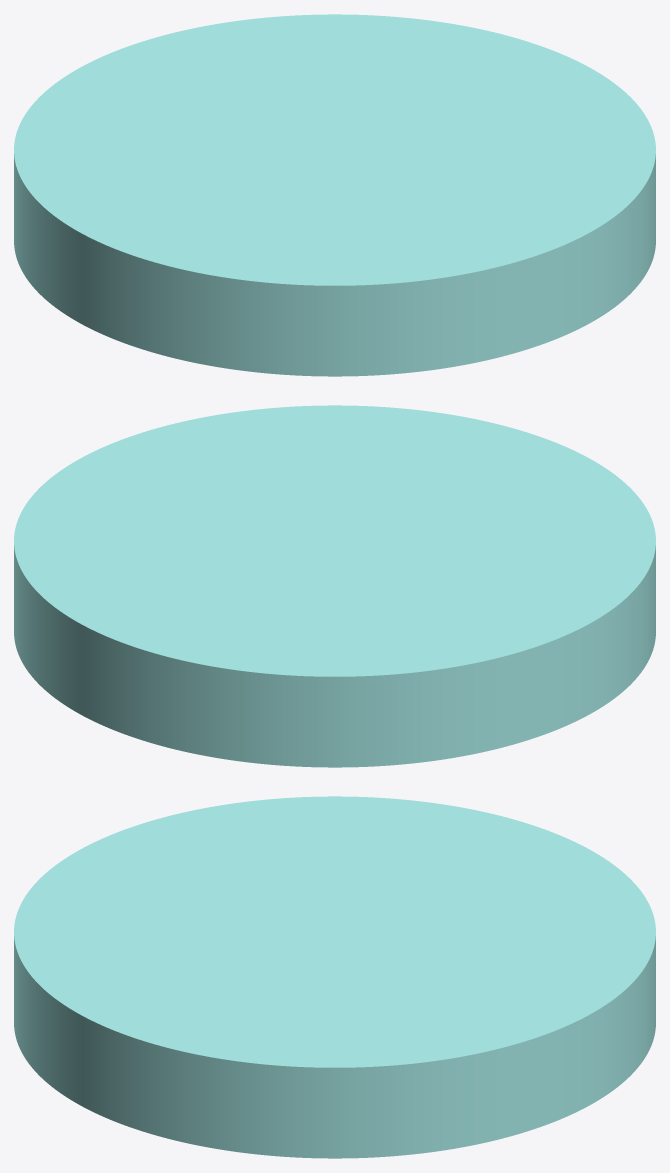
File: mobileplatform1.fbx
3 renders of one model, top to bottom at view 1: azimuth 30°, elevation 25°; view 2: azimuth 150°, elevation 25°; view 3: azimuth 270°, elevation 25°, orthographic.
Parts seen in each view (by area): view 1: Cylinder.007; view 2: Cylinder.007; view 3: Cylinder.007.
Boxes of the visible parts, x1,y1,x2,y2 form: Cylinder.007: (14,14,655,376); Cylinder.007: (14,405,655,767); Cylinder.007: (14,796,655,1158).
Size of the model in its own units: 7694 by 1200 by 7694.
